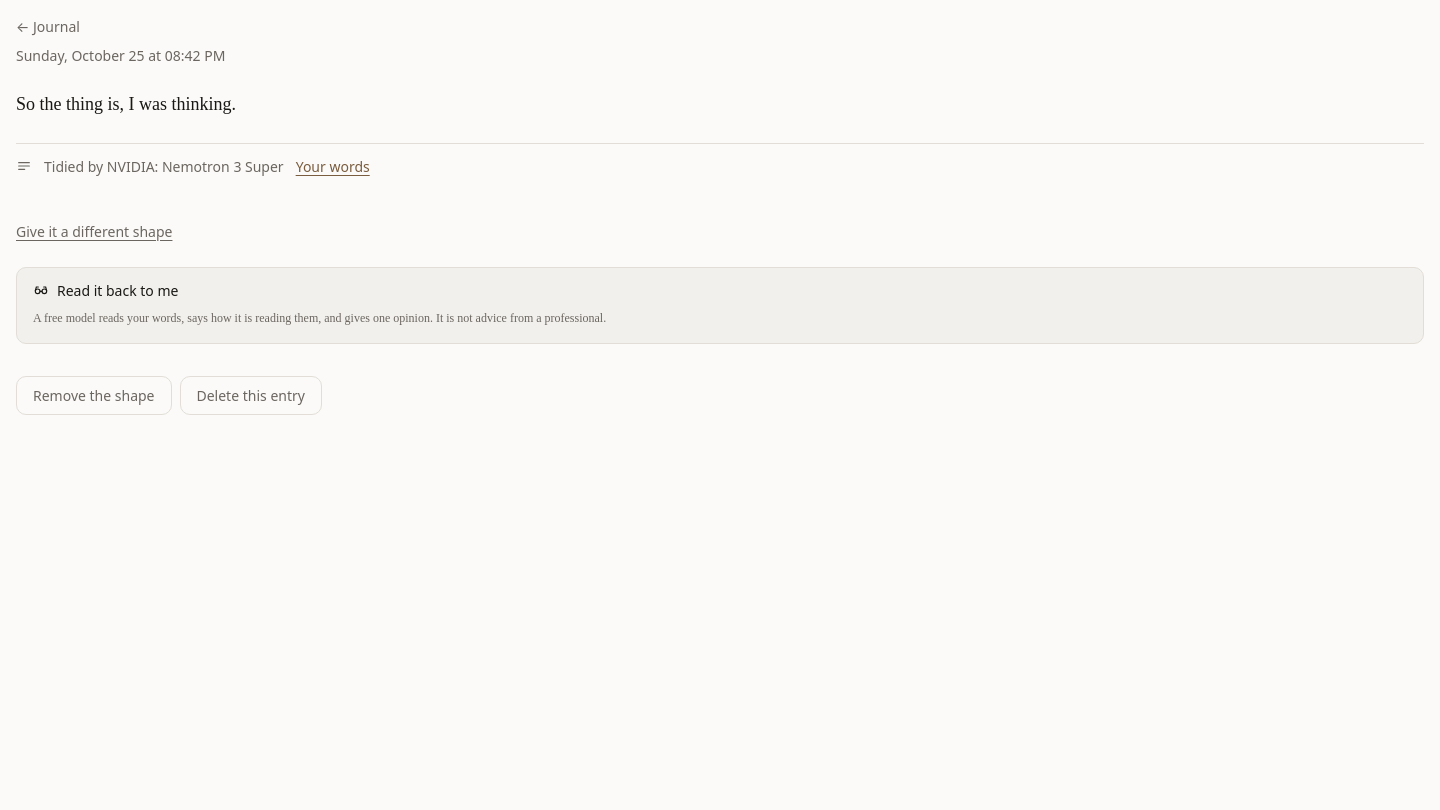
Scenario: Entry › keeps the three shapes shut once the entry has one
Expected: the button "Unpack" is not shown
Click the button "Give it a different shape" at (94, 231), box [16,221,172,242]
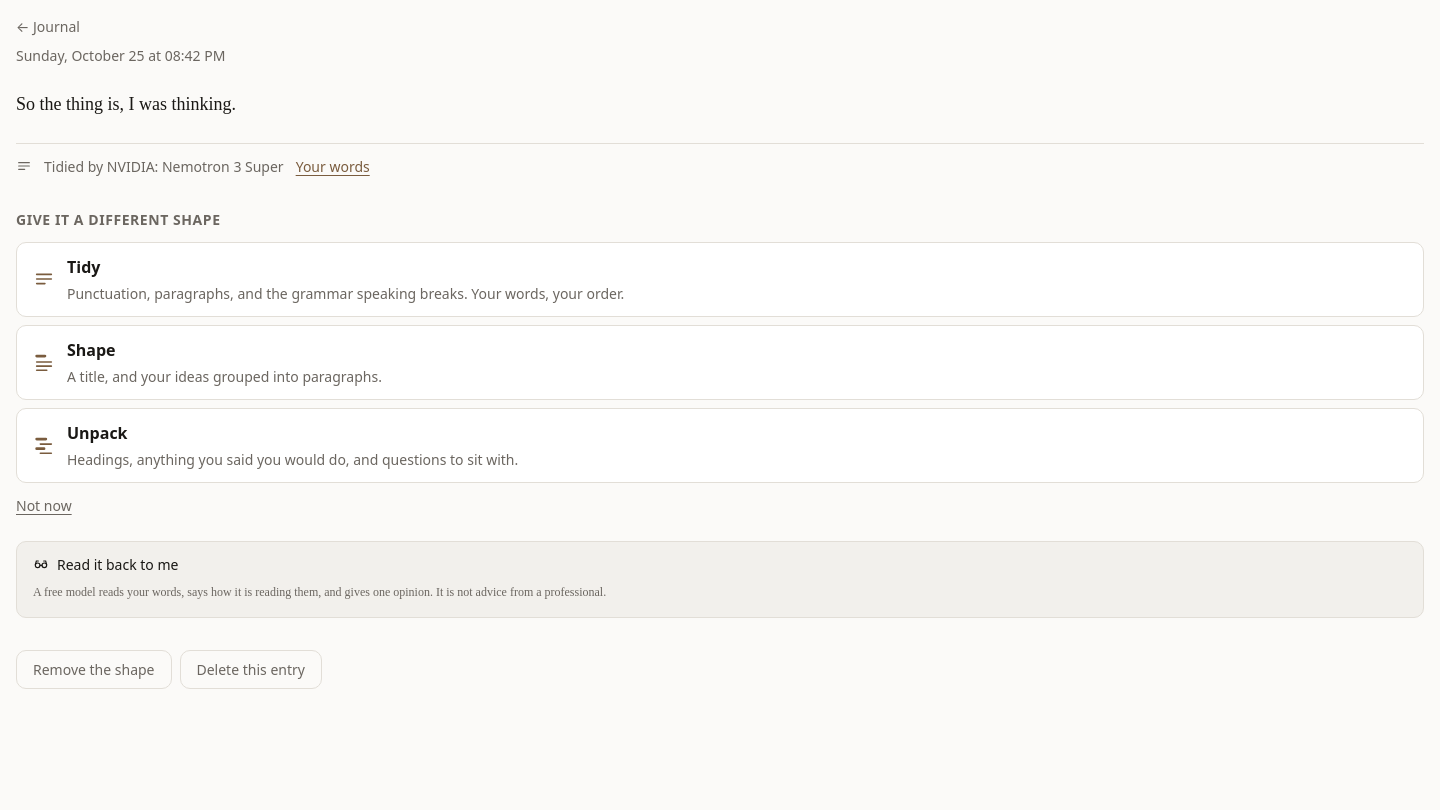
Result: the button "Unpack" is shown at [16,408,1424,483]
